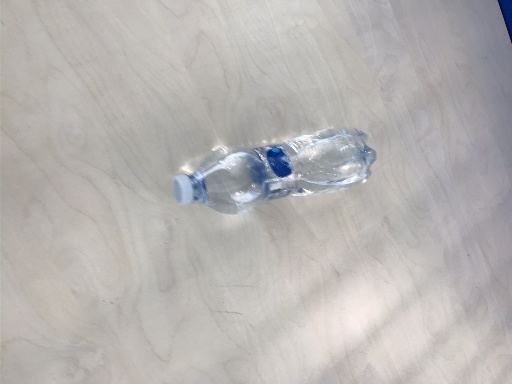Acqua: (173, 123, 378, 220)
